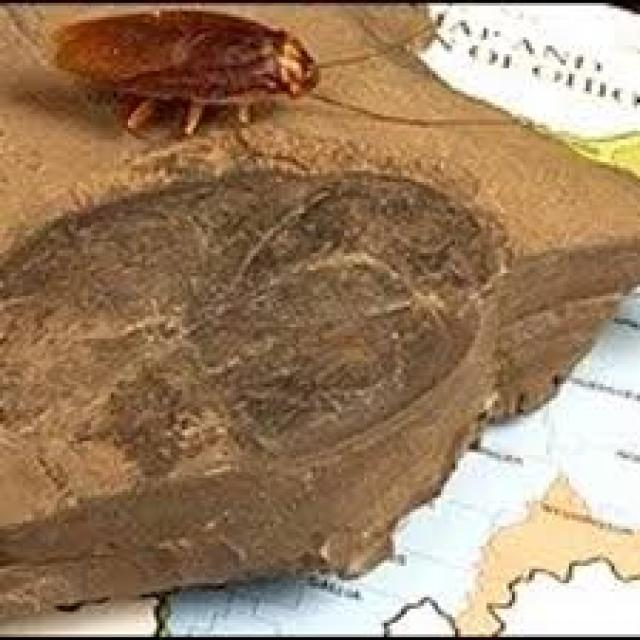Cockroach: (42, 0, 480, 155)
